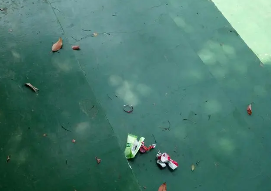garbage: (121, 128, 158, 163), (149, 152, 194, 170), (21, 79, 45, 96), (49, 35, 71, 53), (70, 41, 87, 56), (150, 183, 175, 191)
